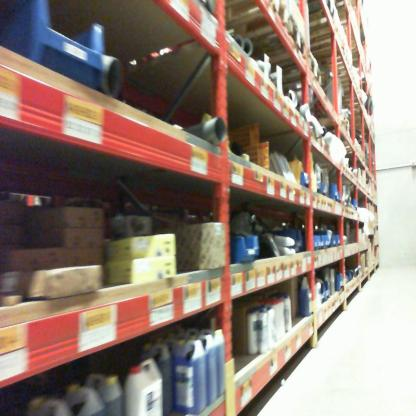pallet: (222, 20, 310, 64), (246, 54, 327, 94), (214, 3, 295, 32)
